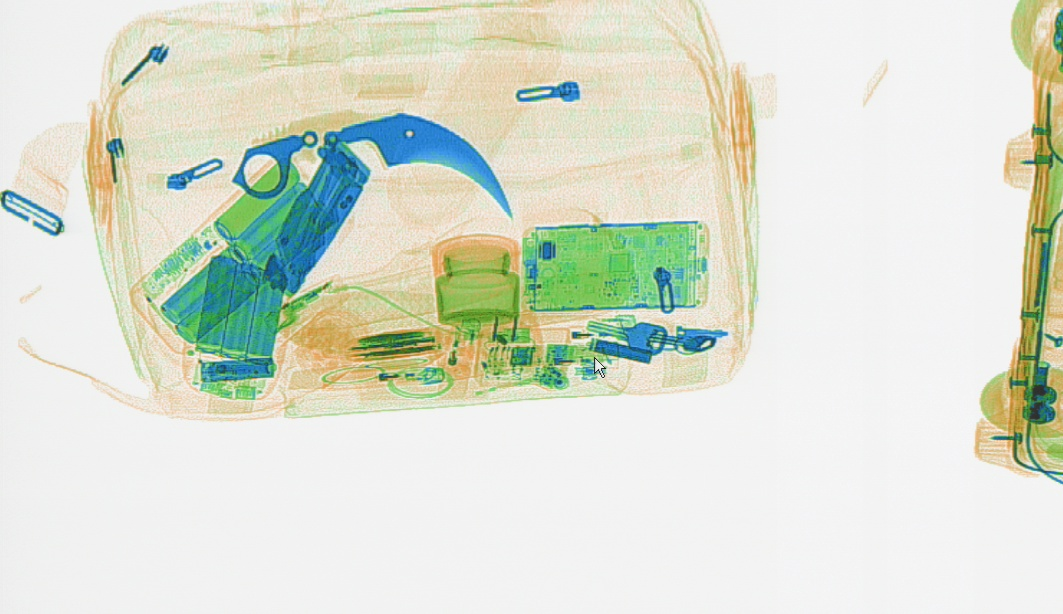knife: (228, 107, 517, 219), (264, 132, 375, 294)
lighter: (438, 315, 483, 404), (335, 363, 443, 386)
powerbank: (126, 151, 340, 353), (178, 251, 286, 407)
